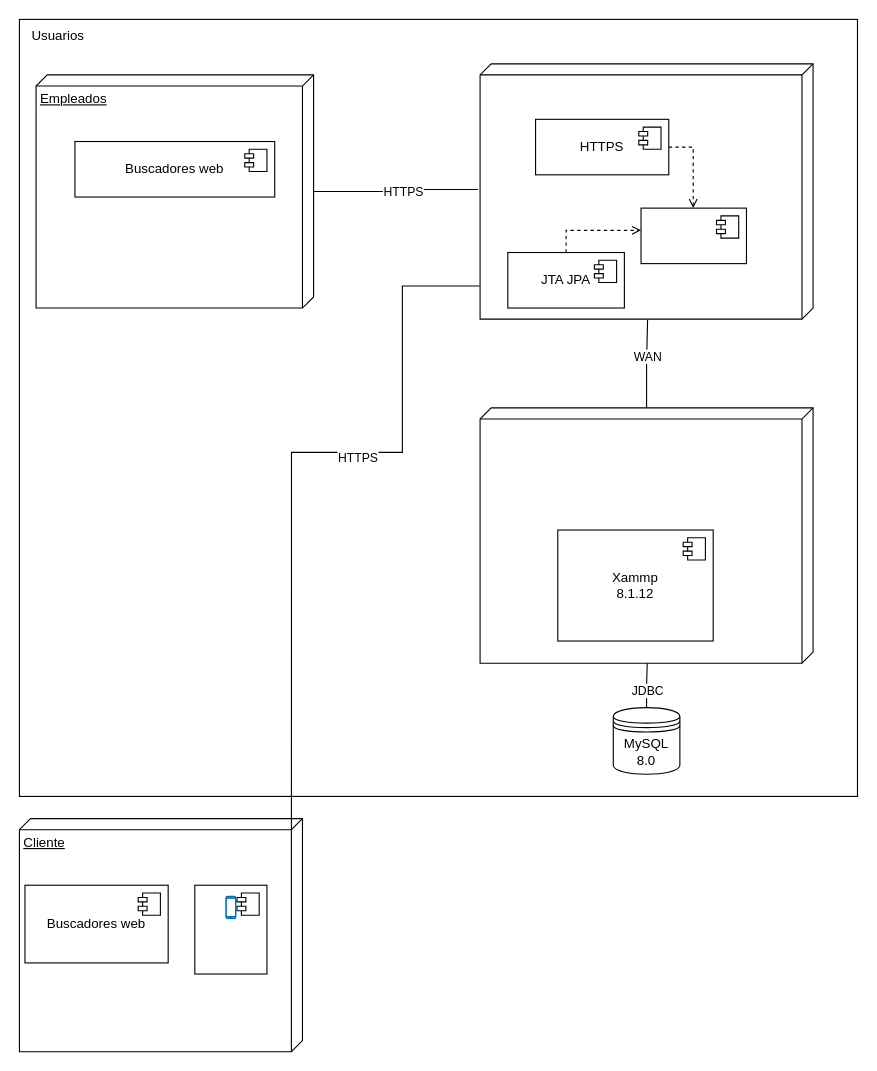
This 877x1071 diagram has some shape labels left out. Here are the shapes that lost their labels. From the top down, the box of each, then its label:
(479, 63, 813, 319): Servidor Web
(640, 207, 746, 264): JDK
(479, 407, 813, 663): Servidor BD
(194, 884, 267, 974): Android 10+
